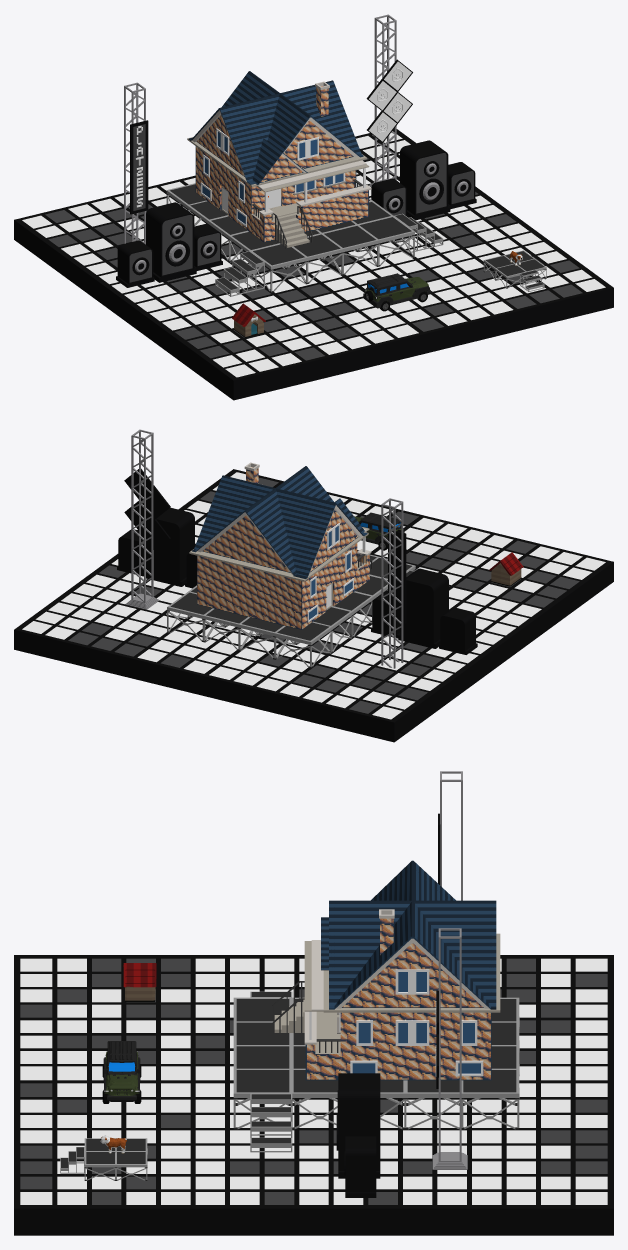
The picture shows the model from 3 angles, top to bottom: view 1: azimuth 30°, elevation 25°; view 2: azimuth 150°, elevation 25°; view 3: azimuth 270°, elevation 25°; orthographic projection. The views are drawn at different scales.
Visible parts, largest first — view 1: Cube.008, Cube.430, VEHICLES_JEEP, OBJRANDOM_DOGHOUSE; view 2: Cube.008, Cube.430, VEHICLES_JEEP, OBJRANDOM_DOGHOUSE; view 3: Cube.008, Cube.430, VEHICLES_JEEP, OBJRANDOM_DOGHOUSE.
Part boxes in pixels (left/top/right/bottom): Cube.008: left=14, top=14, right=613, bottom=400; Cube.430: left=187, top=71, right=371, bottom=248; VEHICLES_JEEP: left=363, top=273, right=430, bottom=311; OBJRANDOM_DOGHOUSE: left=232, top=303, right=265, bottom=337; Cube.008: left=14, top=429, right=613, bottom=742; Cube.430: left=189, top=462, right=372, bottom=629; VEHICLES_JEEP: left=354, top=512, right=404, bottom=550; OBJRANDOM_DOGHOUSE: left=489, top=552, right=523, bottom=586; Cube.008: left=14, top=771, right=613, bottom=1235; Cube.430: left=272, top=860, right=500, bottom=1080; VEHICLES_JEEP: left=102, top=1041, right=141, bottom=1103; OBJRANDOM_DOGHOUSE: left=123, top=963, right=156, bottom=1001.
Size of the model in its own units: 4000 by 2073 by 4000.
Materials: 44 (2 with a texture image).
